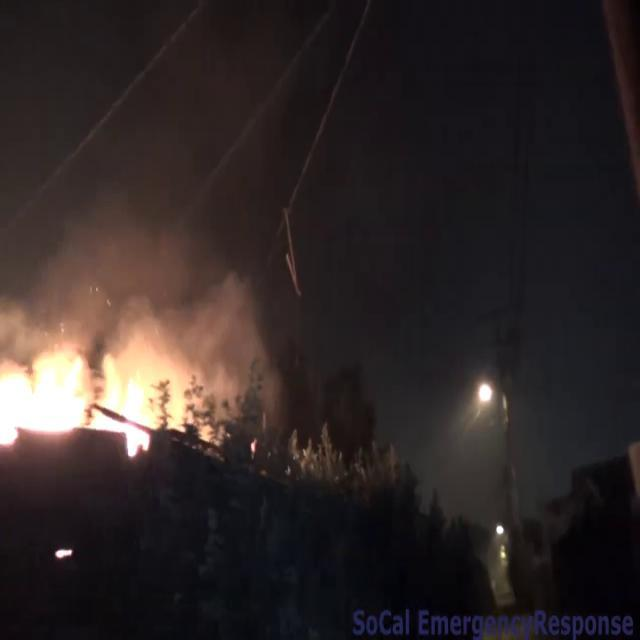Fire: (0, 330, 191, 454)
